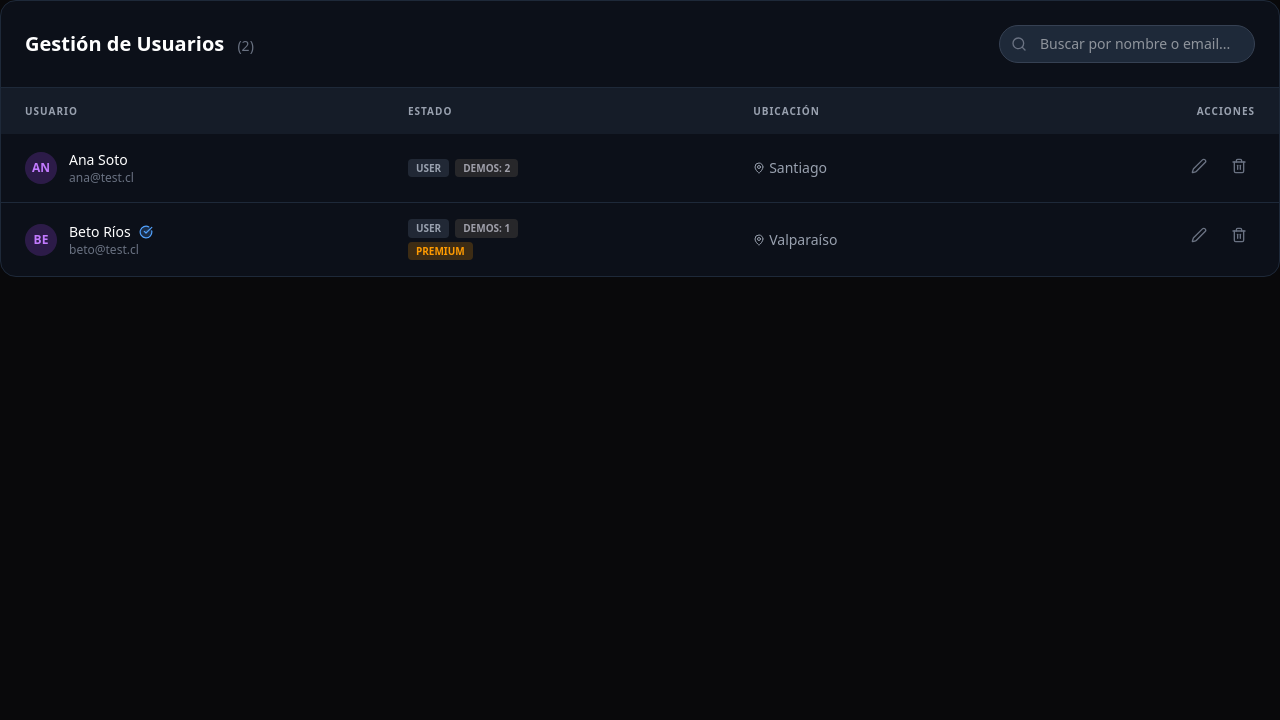
Test: Admin — happy path › permite eliminar un usuario, previa confirmación
expect the text "Ana Soto" is shown: met, box [69, 150, 128, 170]
Click the button titled "Eliminar" in the row of "Ana Soto": (1239, 166) [1223, 150, 1255, 182]
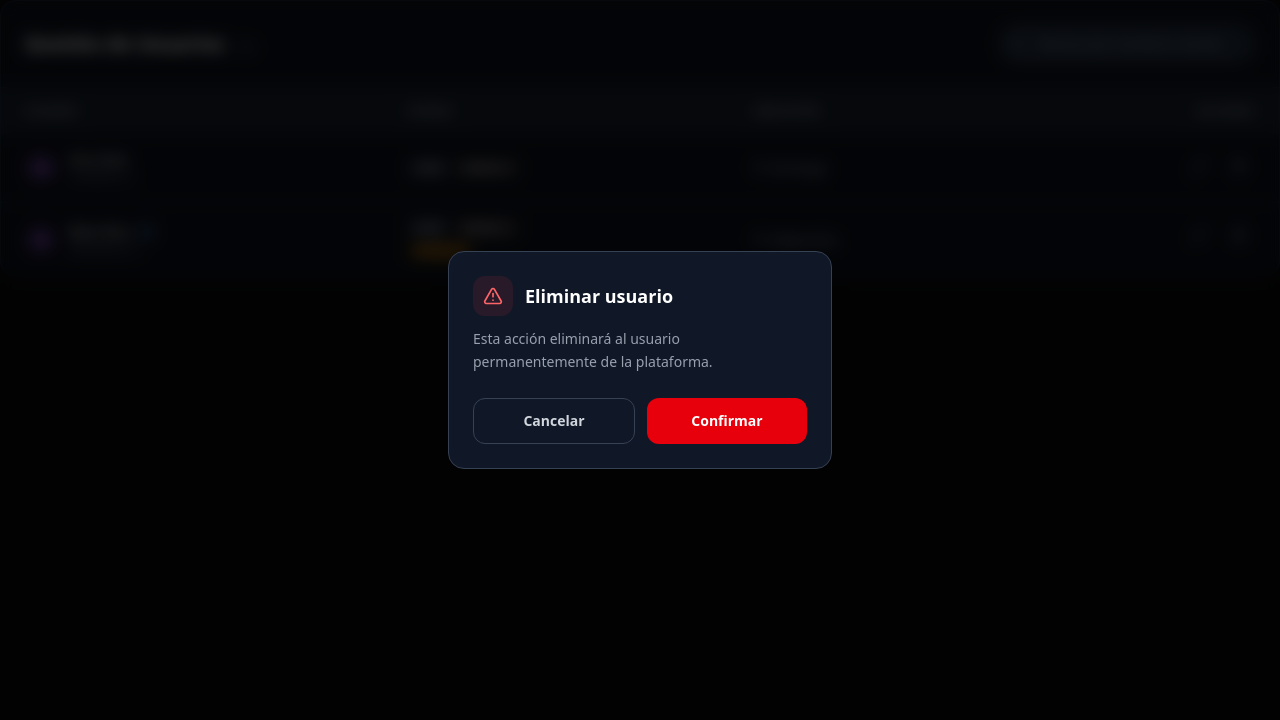
expect the heading "Eliminar usuario" is shown: met, box [525, 282, 673, 310]
expect the text "Esta acción eliminará al usuario permanentemente de la plataforma." is shown: met, box [473, 329, 713, 371]
Click the button "Confirmar": (727, 421) [647, 398, 807, 444]
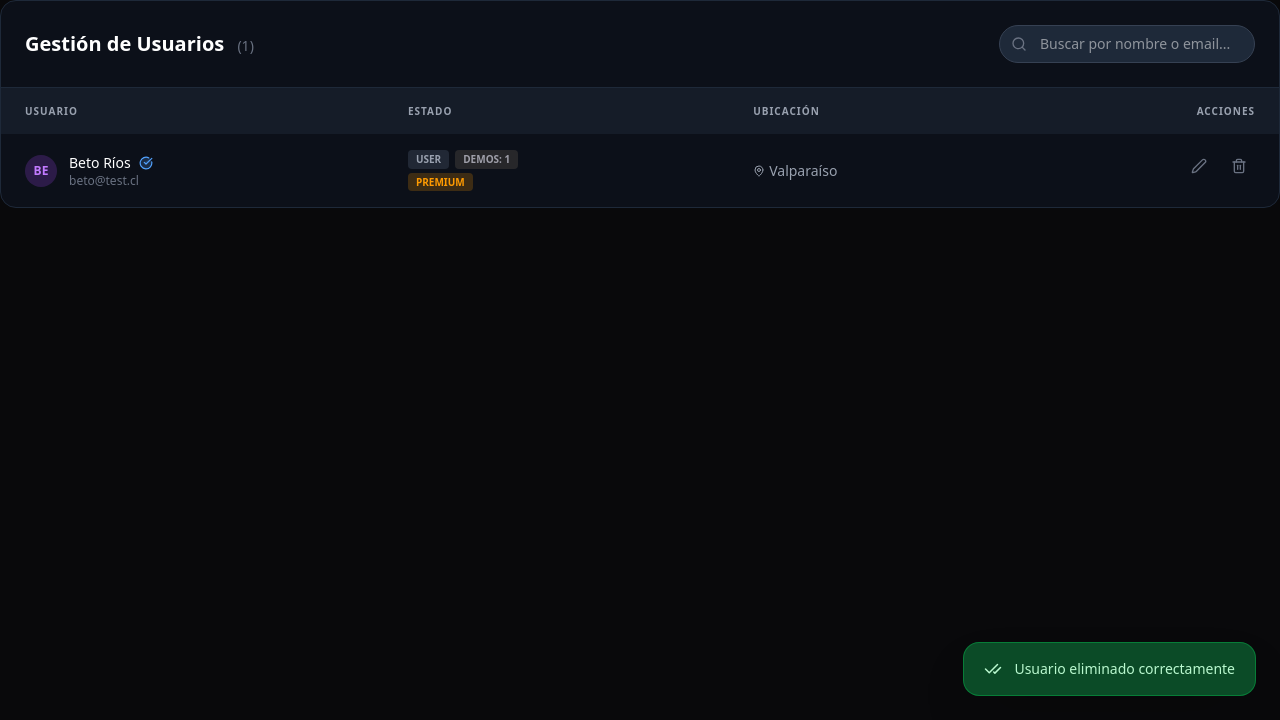
expect the text "Beto Ríos" is shown: met, box [69, 153, 131, 173]
expect the text "Ana Soto" is gone: met
expect the text "Usuario eliminado correctamente" is shown: met, box [1014, 659, 1235, 679]
